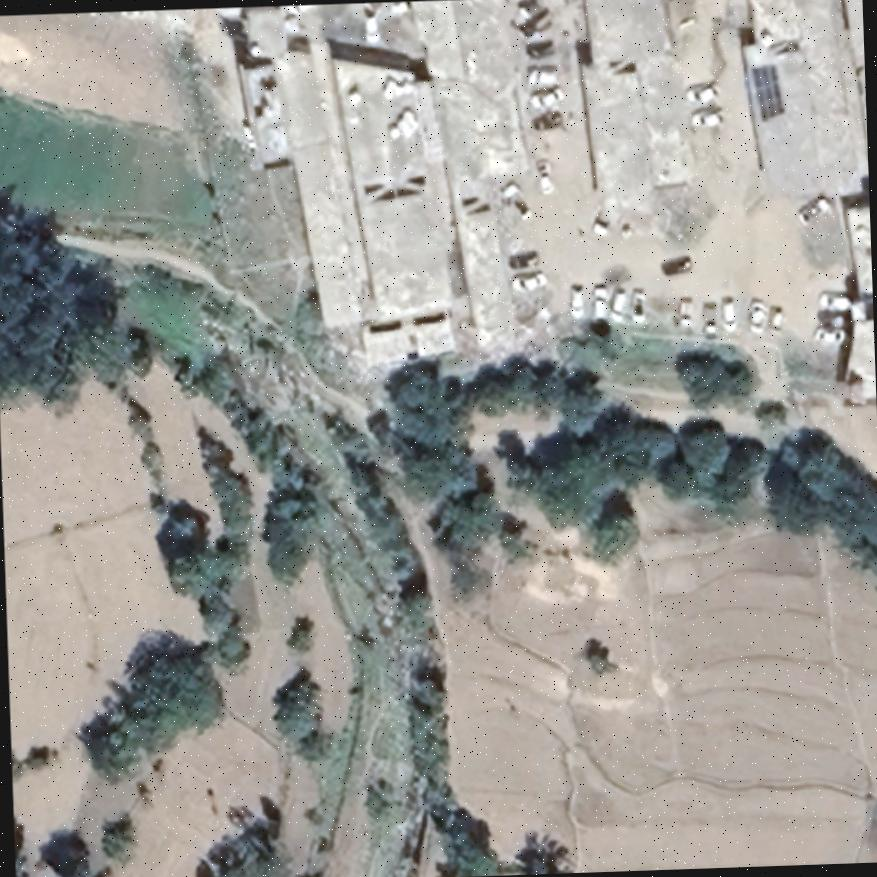Solarpanel: (740, 57, 788, 128)
